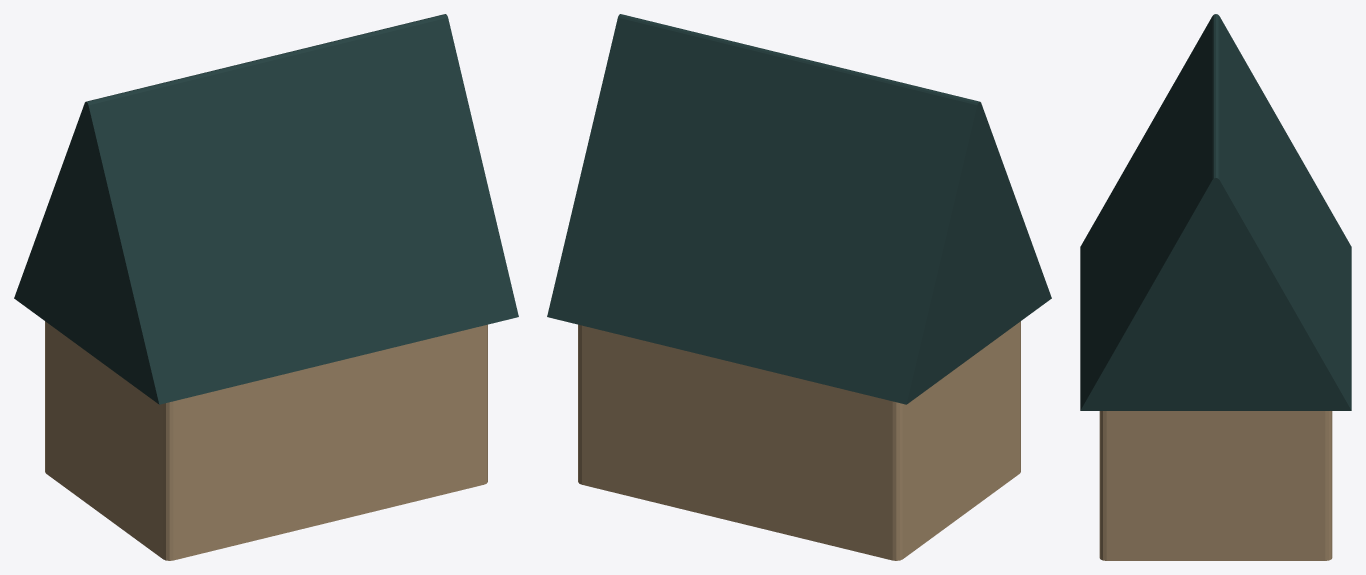
File: bar.obj
3 views of the same model, side by side, from view 1: azimuth 30°, elevation 25°; view 2: azimuth 150°, elevation 25°; view 3: azimuth 270°, elevation 25° (orthographic). The views are drawn at different scales.
Size of the model in its own units: 10 by 11.13 by 7.
